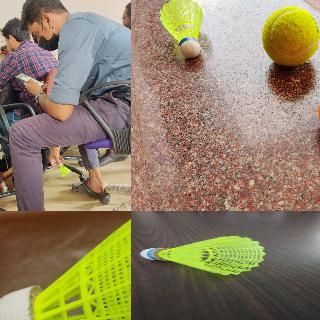shuttlecock: (0, 211, 130, 319), (140, 236, 266, 274), (159, 0, 204, 59), (58, 162, 70, 176)
